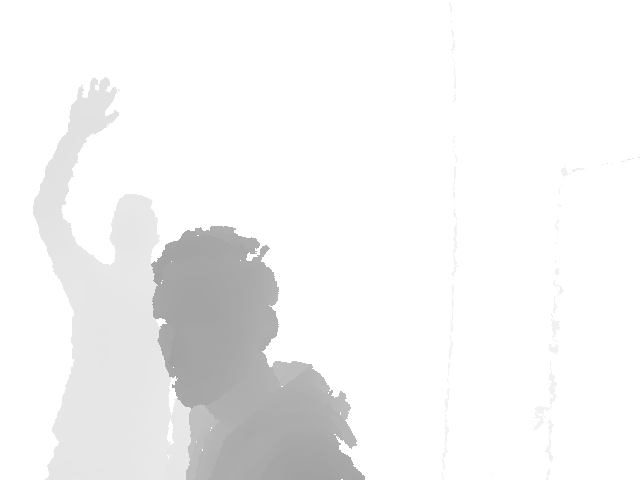hand: (67, 76, 119, 140)
head: (150, 225, 278, 409), (109, 195, 160, 269)
person: (31, 76, 192, 480), (150, 224, 366, 480)
